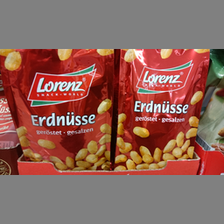nuts: (1, 49, 115, 171), (113, 50, 211, 172)
